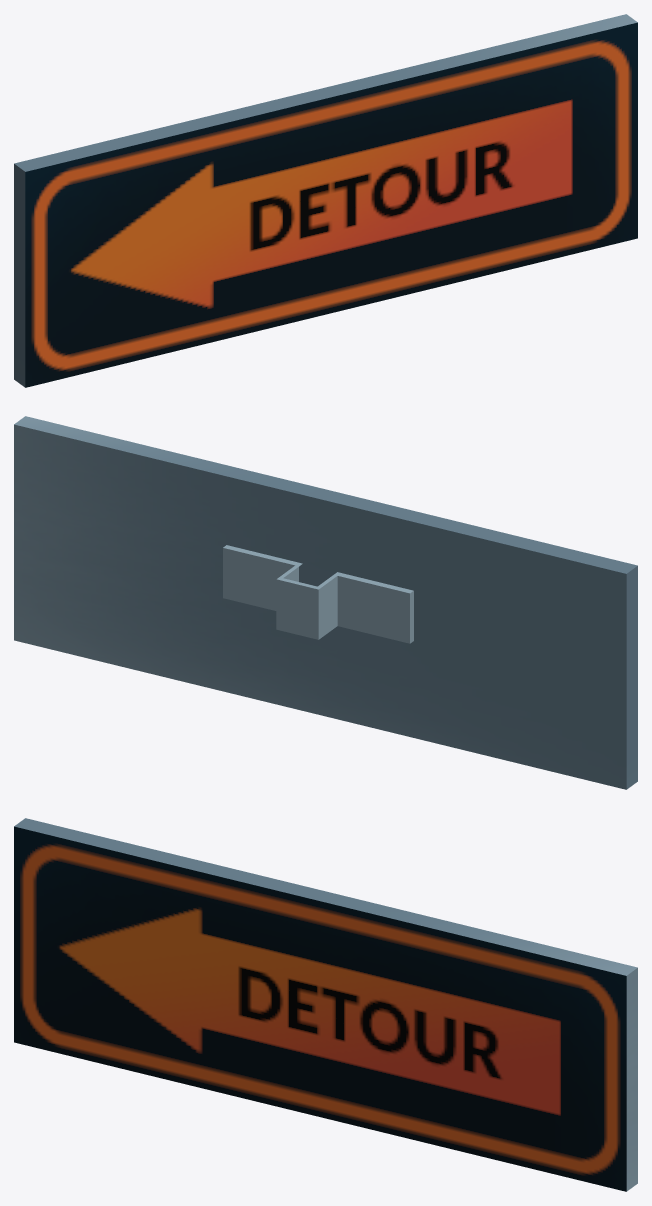
File: Sign49.fbx
The picture shows the model from 3 angles, top to bottom: view 1: azimuth 30°, elevation 25°; view 2: azimuth 150°, elevation 25°; view 3: azimuth 330°, elevation 25°; orthographic projection.
Visible parts, largest first — view 1: Sign49; view 2: Sign49; view 3: Sign49.
Part boxes in pixels (bbox=[...]): Sign49: bbox=[14, 14, 637, 387]; Sign49: bbox=[14, 416, 637, 789]; Sign49: bbox=[14, 818, 637, 1191].
Bounding box in the file's own units: 1.54 × 0.1489 × 0.5195.
